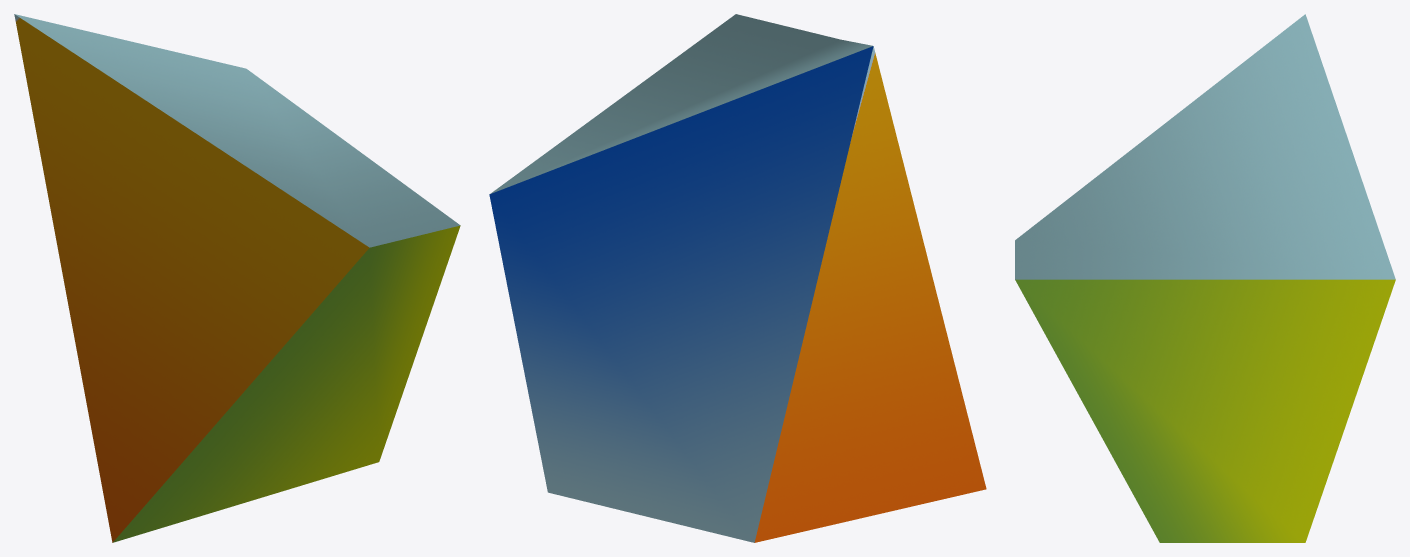
3 renders of one model, left to right at view 1: azimuth 30°, elevation 25°; view 2: azimuth 150°, elevation 25°; view 3: azimuth 270°, elevation 25°, orthographic. The views are drawn at different scales.
Visible parts, largest first — view 1: Cube; view 2: Cube; view 3: Cube.
Part boxes in pixels (x1,y1,x2,y2): Cube: (14,14,460,542); Cube: (489,14,986,542); Cube: (1015,14,1395,542).
Bounding box in the file's own units: 2.1 × 3.24 × 2.76.
1 material, 1 textured.
